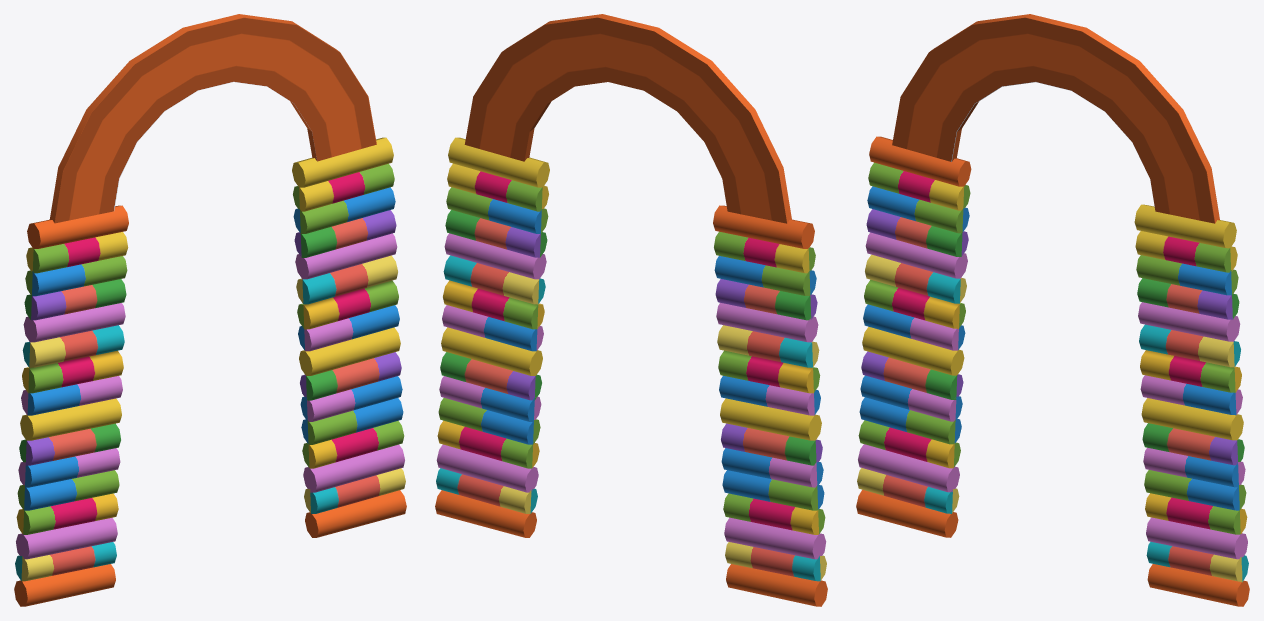
Rendered from YGB0310015.fbx.
3 renders of one model, left to right at view 1: azimuth 30°, elevation 25°; view 2: azimuth 150°, elevation 25°; view 3: azimuth 330°, elevation 25°, orthographic.
Visible parts, largest first — view 1: smYGB0310015; view 2: smYGB0310015; view 3: smYGB0310015.
Boxes of the visible parts, x1,y1,x2,y2 form: smYGB0310015: [14, 14, 406, 606]; smYGB0310015: [435, 14, 827, 606]; smYGB0310015: [856, 14, 1249, 606].
Size of the model in its own units: 590 by 801 by 36.95.
1 material, 1 textured.
